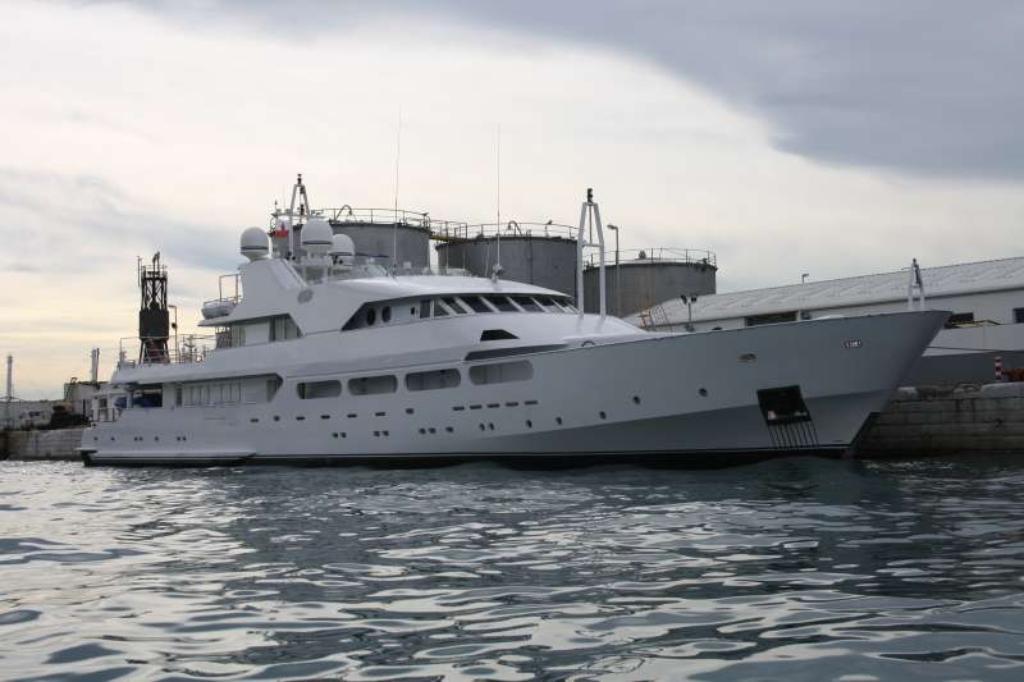PassengerShip: (80, 189, 960, 477)
